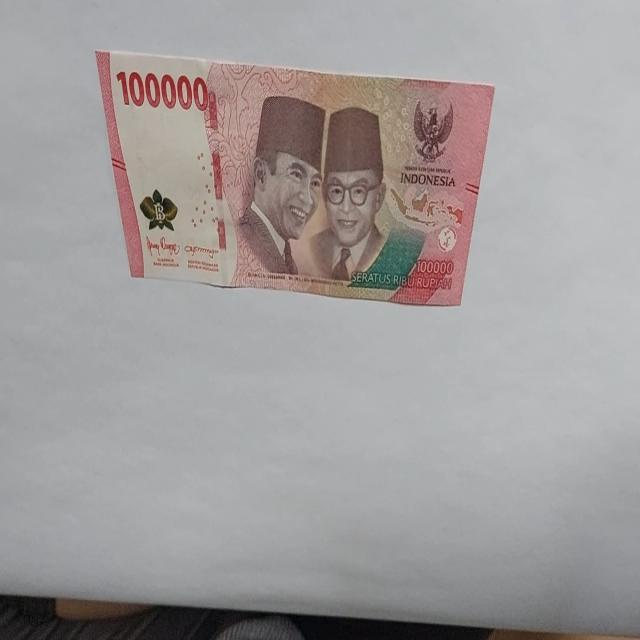seratus ribu rupiah: (94, 49, 496, 308), (236, 93, 326, 279)
